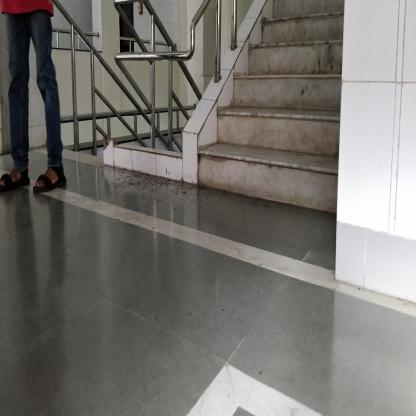stairs: (256, 35, 334, 222)
